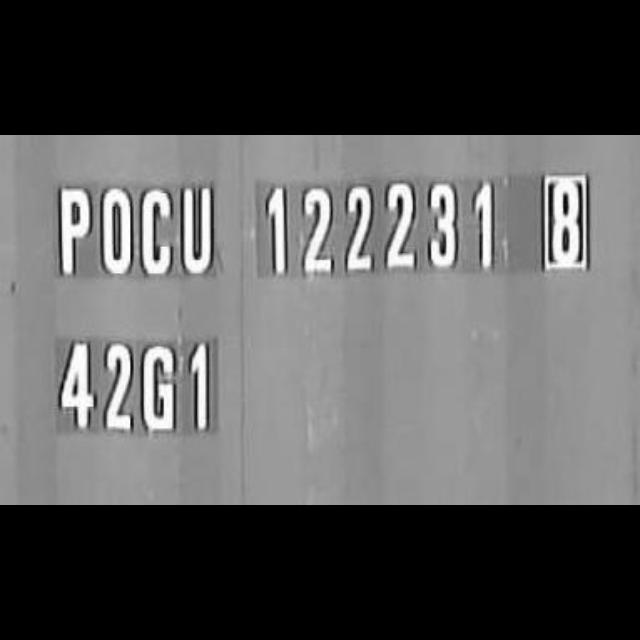1: (258, 180, 294, 280), (471, 176, 502, 276), (186, 338, 214, 432)
2: (381, 177, 423, 276), (298, 178, 338, 280), (342, 179, 378, 275), (100, 340, 134, 430)
3: (428, 179, 460, 277)
4: (56, 338, 100, 434)
8: (550, 180, 584, 270)
c: (140, 183, 174, 281)
g: (138, 344, 178, 434)
o: (100, 182, 134, 282)
p: (44, 181, 92, 283)
u: (180, 178, 217, 276)
